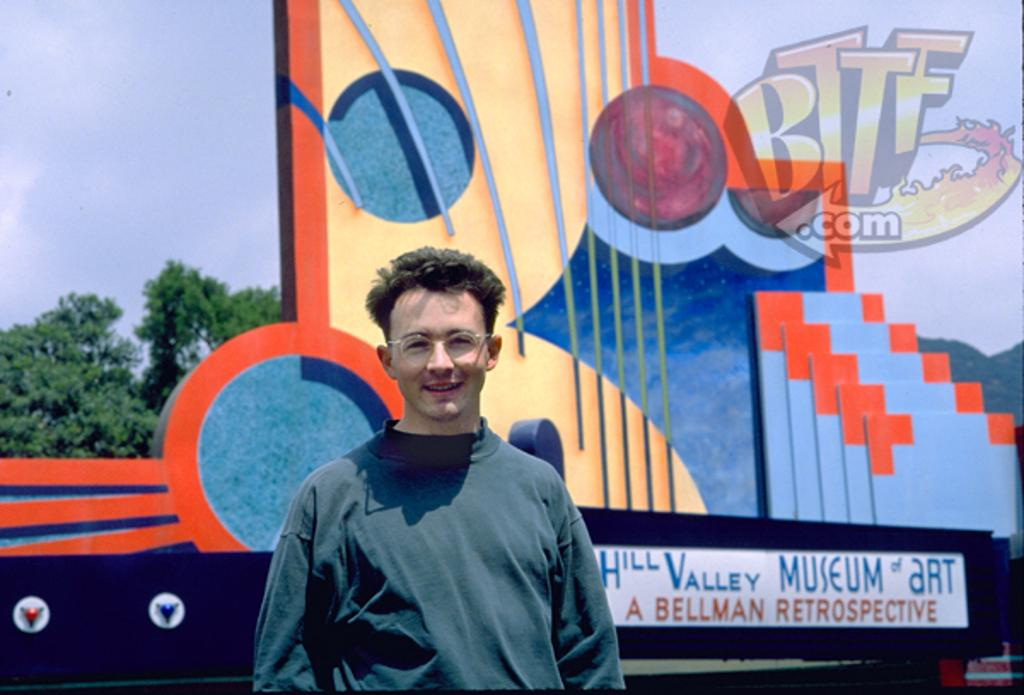face: (400, 290, 486, 410)
